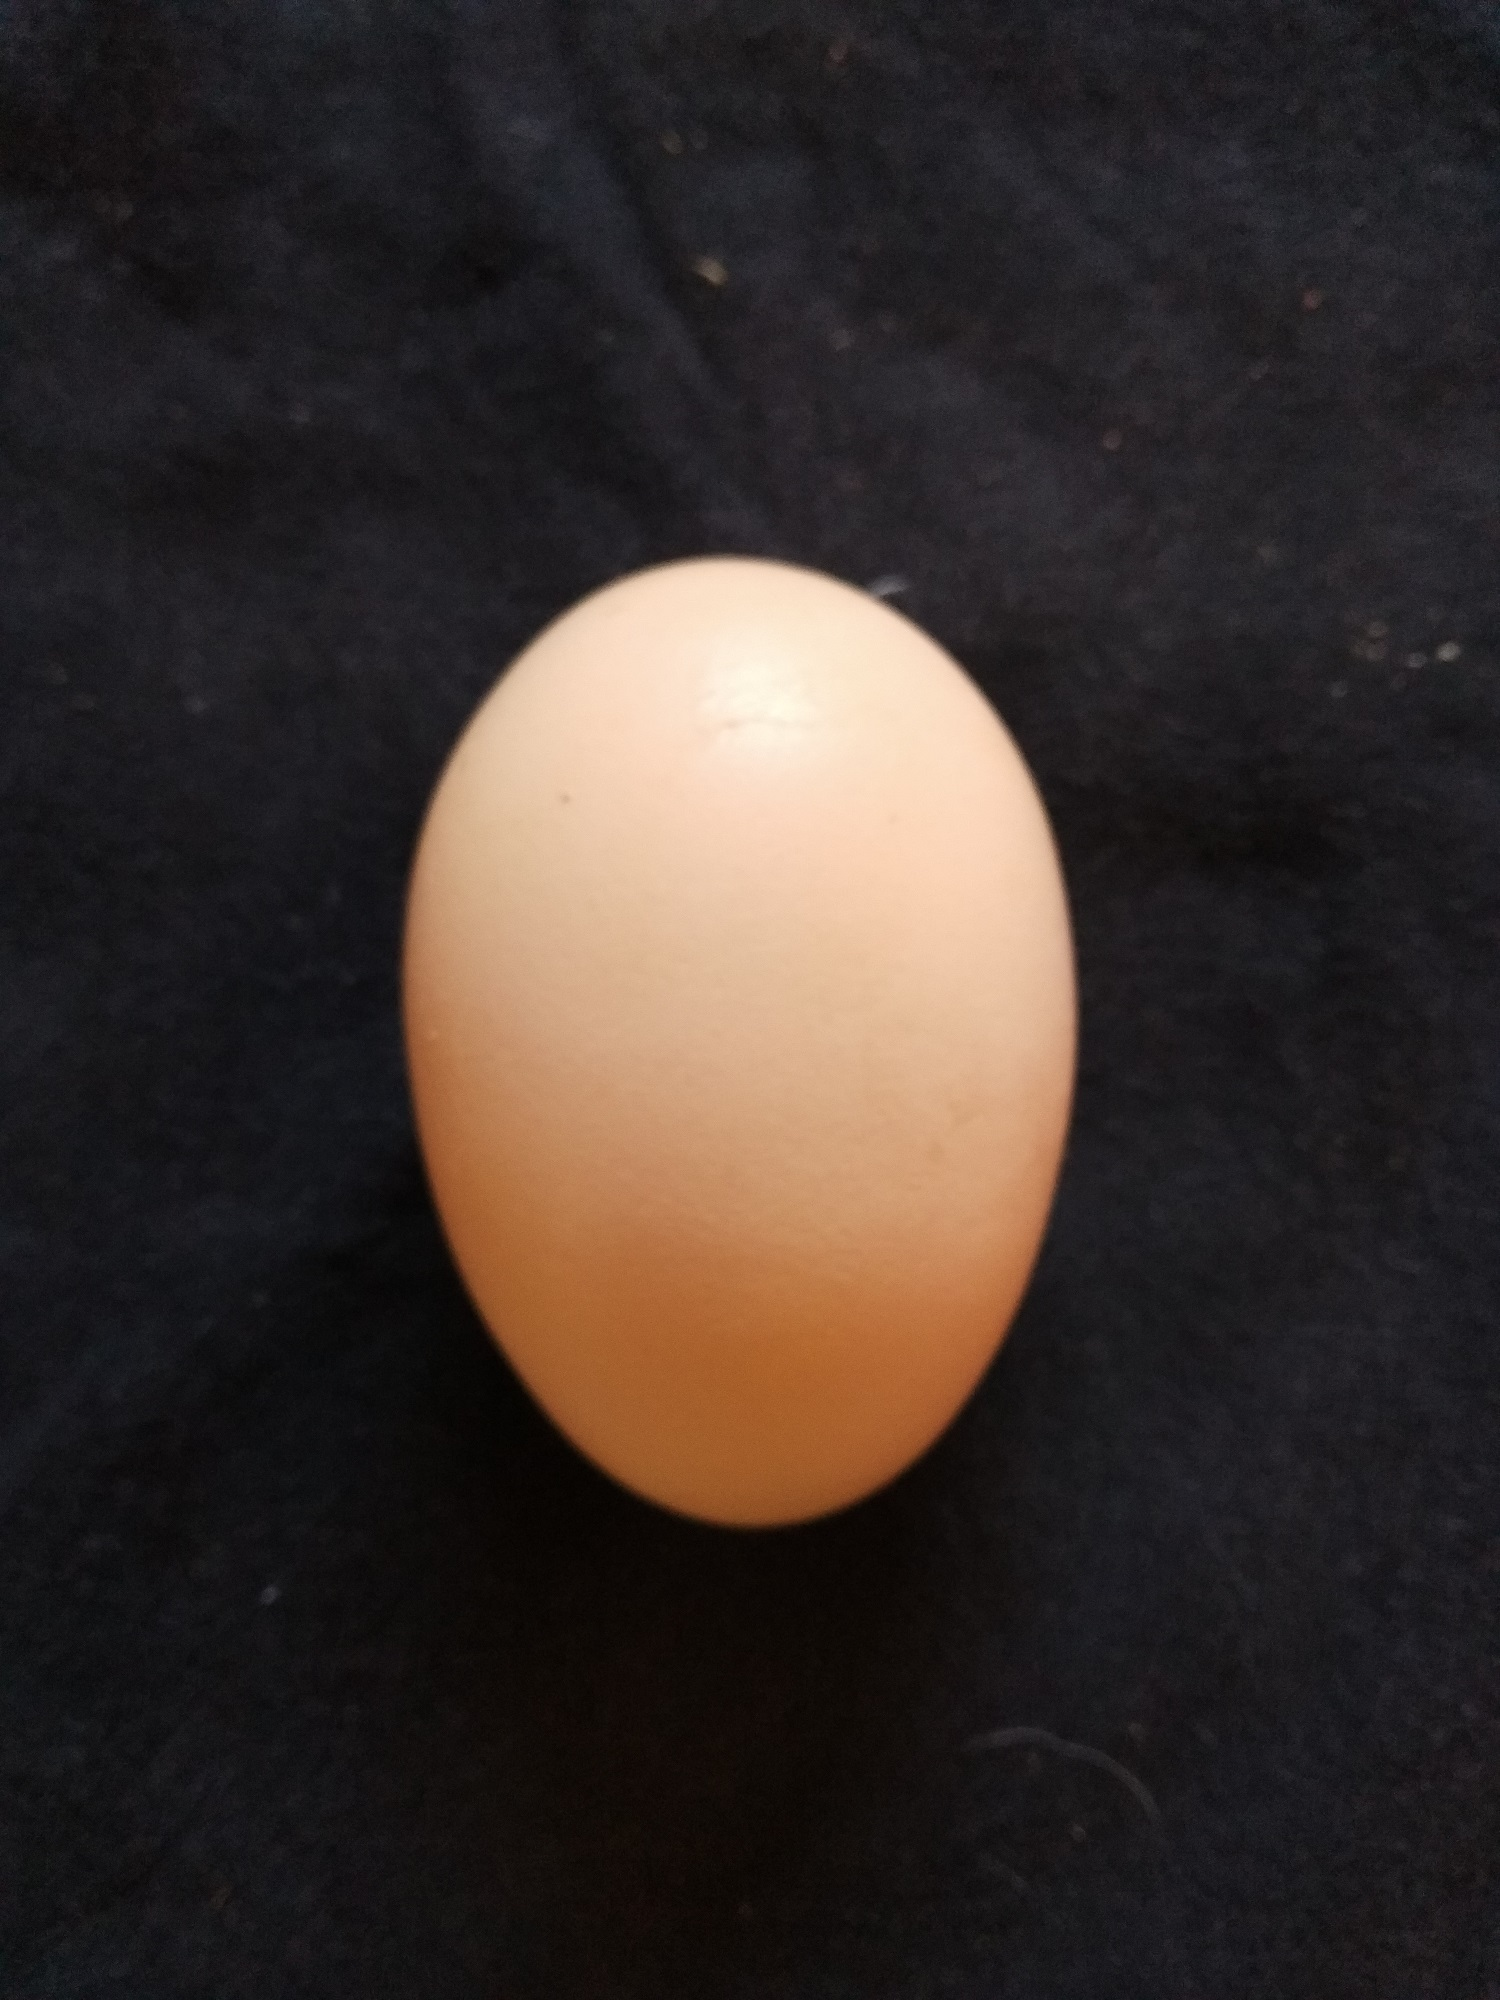Male: (399, 548, 1082, 1532)
